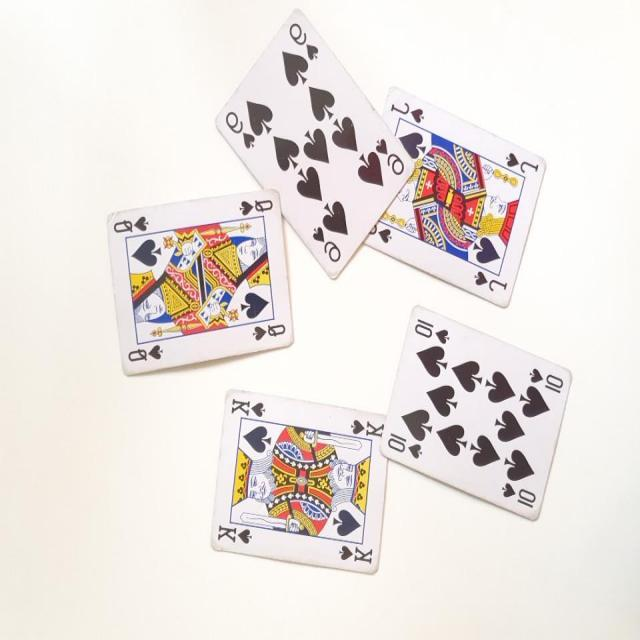10 of spades: (374, 302, 578, 534)
9 of spades: (205, 8, 412, 284)
jack of spades: (360, 77, 554, 314)
king of spades: (204, 382, 396, 580)
queen of spades: (104, 185, 292, 384)
